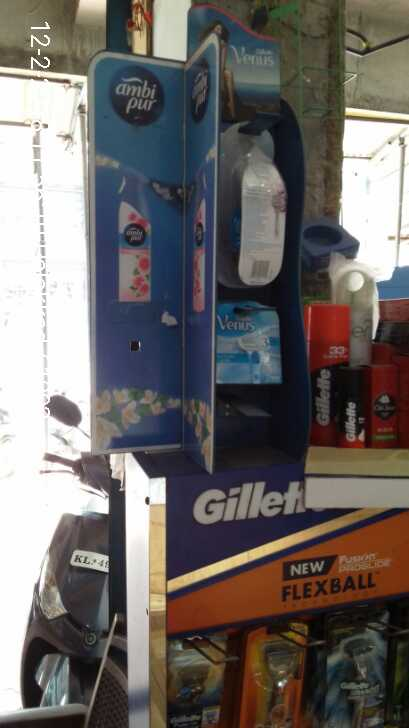beauty: (328, 616, 390, 728), (251, 625, 314, 728), (215, 305, 291, 389), (308, 304, 342, 444), (173, 641, 221, 728), (341, 370, 368, 449)
